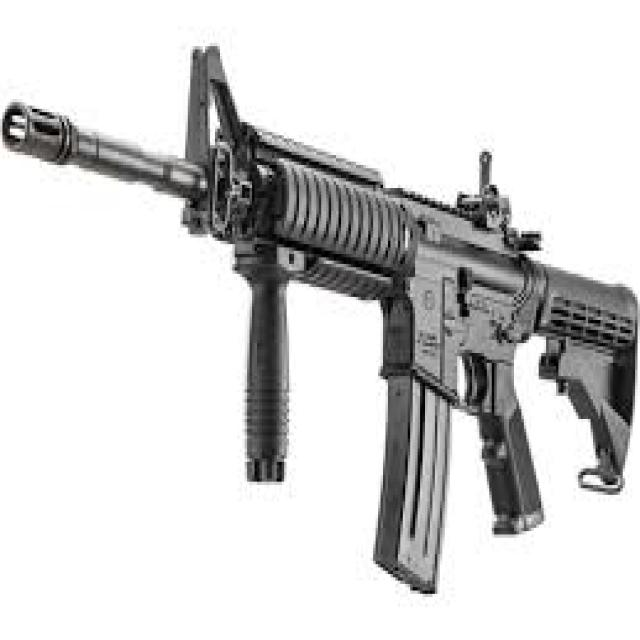rifle: (3, 24, 640, 625)
